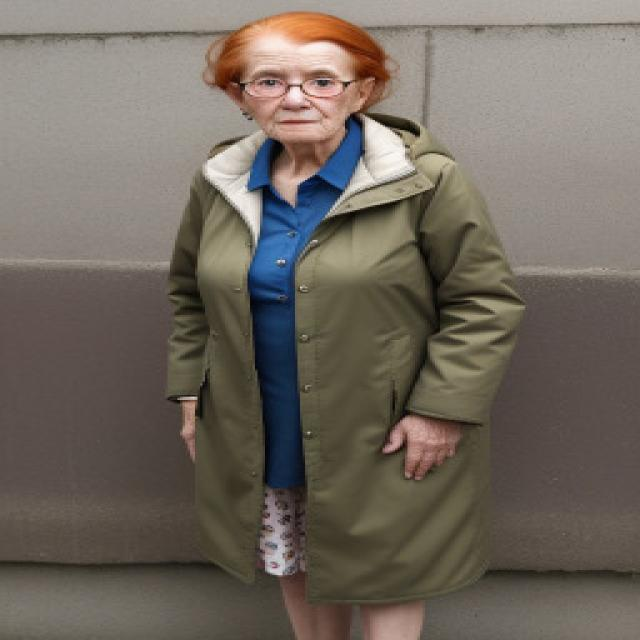Ai human 2: (148, 6, 542, 640)
